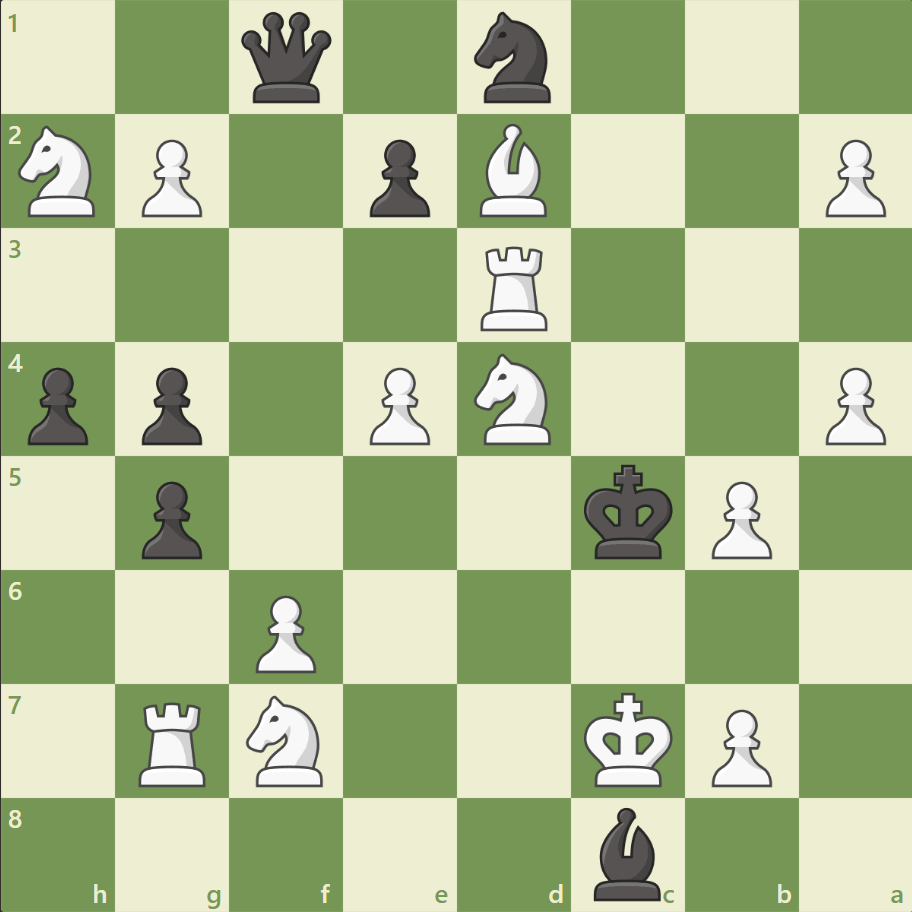B: (471, 120, 555, 222)
K: (579, 685, 679, 793)
N: (238, 688, 335, 791), (465, 348, 562, 450), (11, 121, 108, 223)
P: (701, 700, 776, 791), (247, 586, 322, 677), (701, 473, 776, 564), (133, 132, 208, 223), (815, 359, 889, 450), (361, 359, 435, 450), (815, 132, 889, 223)
R: (473, 239, 556, 336), (133, 693, 215, 790)
b: (585, 801, 669, 904)
k: (579, 458, 679, 566)
n: (465, 7, 562, 110)
p: (133, 473, 208, 564), (133, 359, 208, 450), (20, 359, 95, 450), (361, 132, 435, 223)
q: (237, 9, 336, 108)
